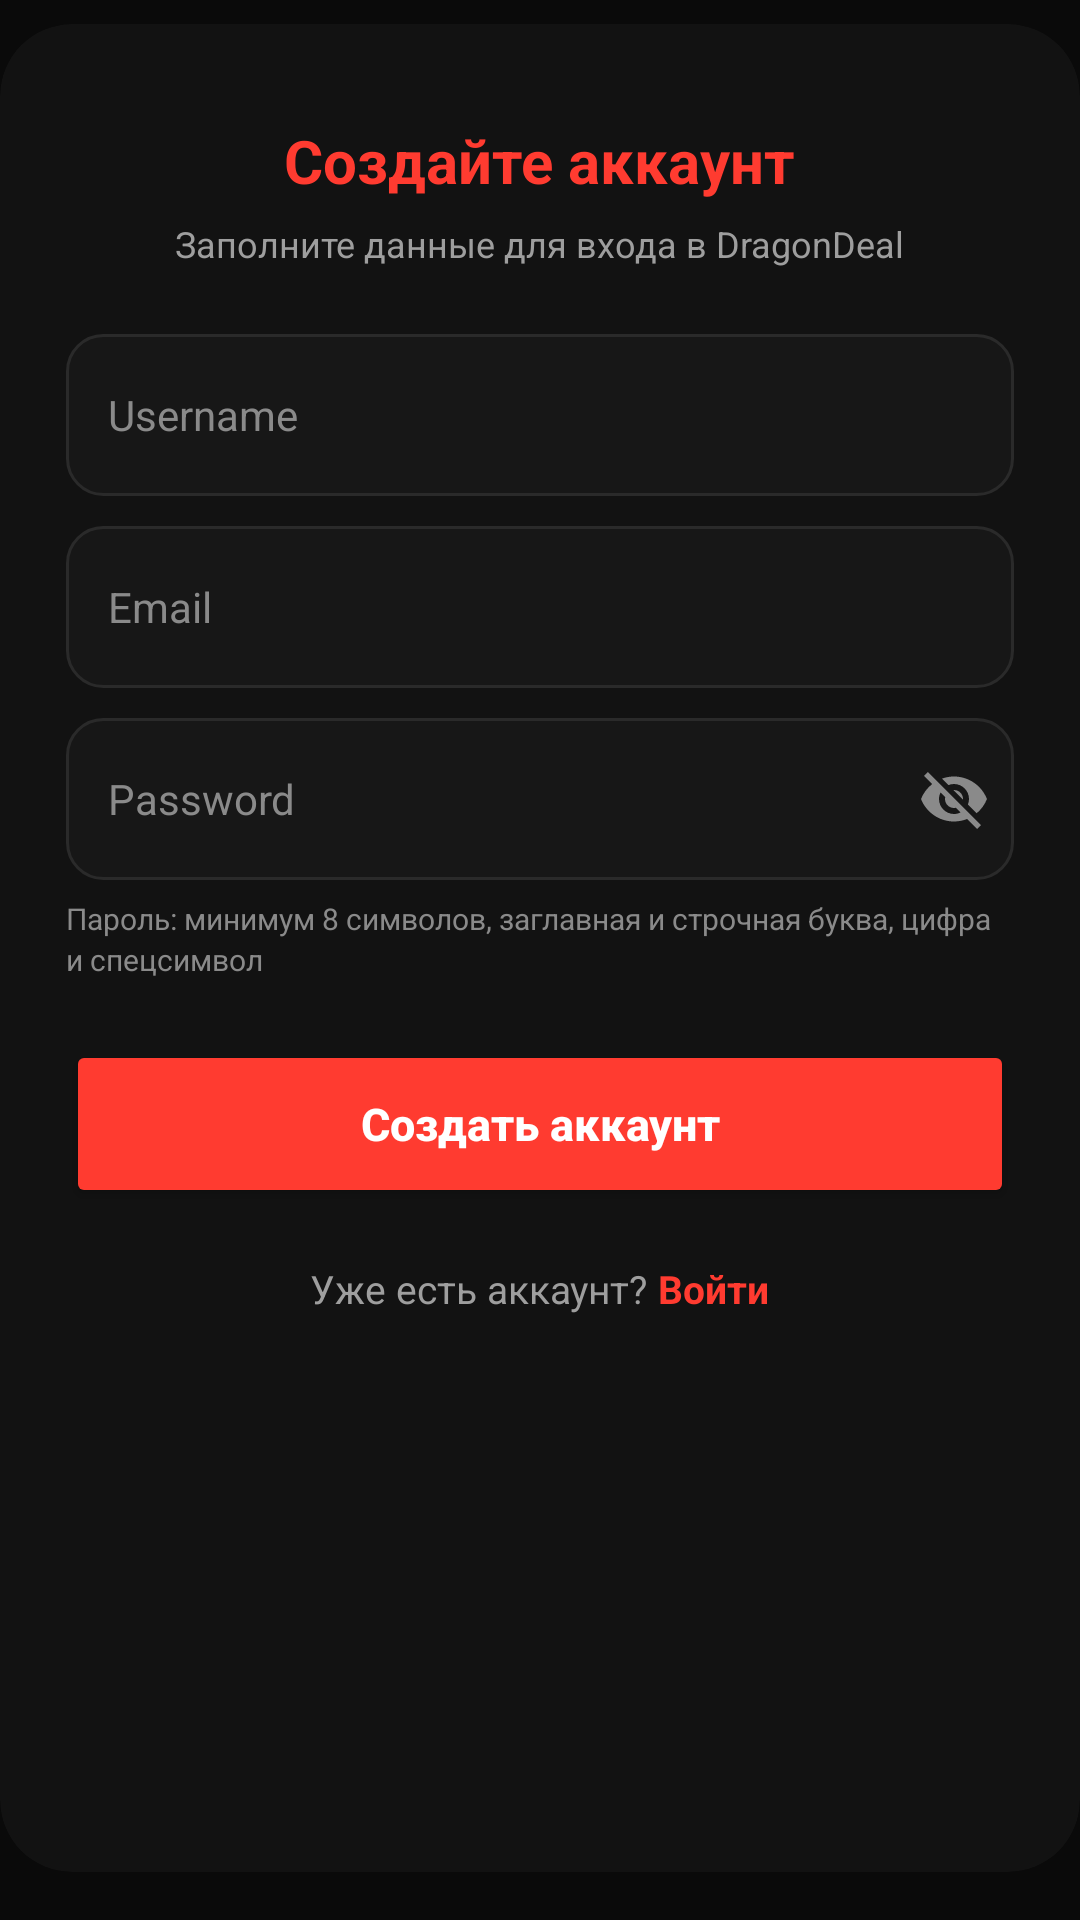

Named icons in this screenshot (1080px×1920px) and their centers, point (x, y):
Показать пароль: point (954, 800)
